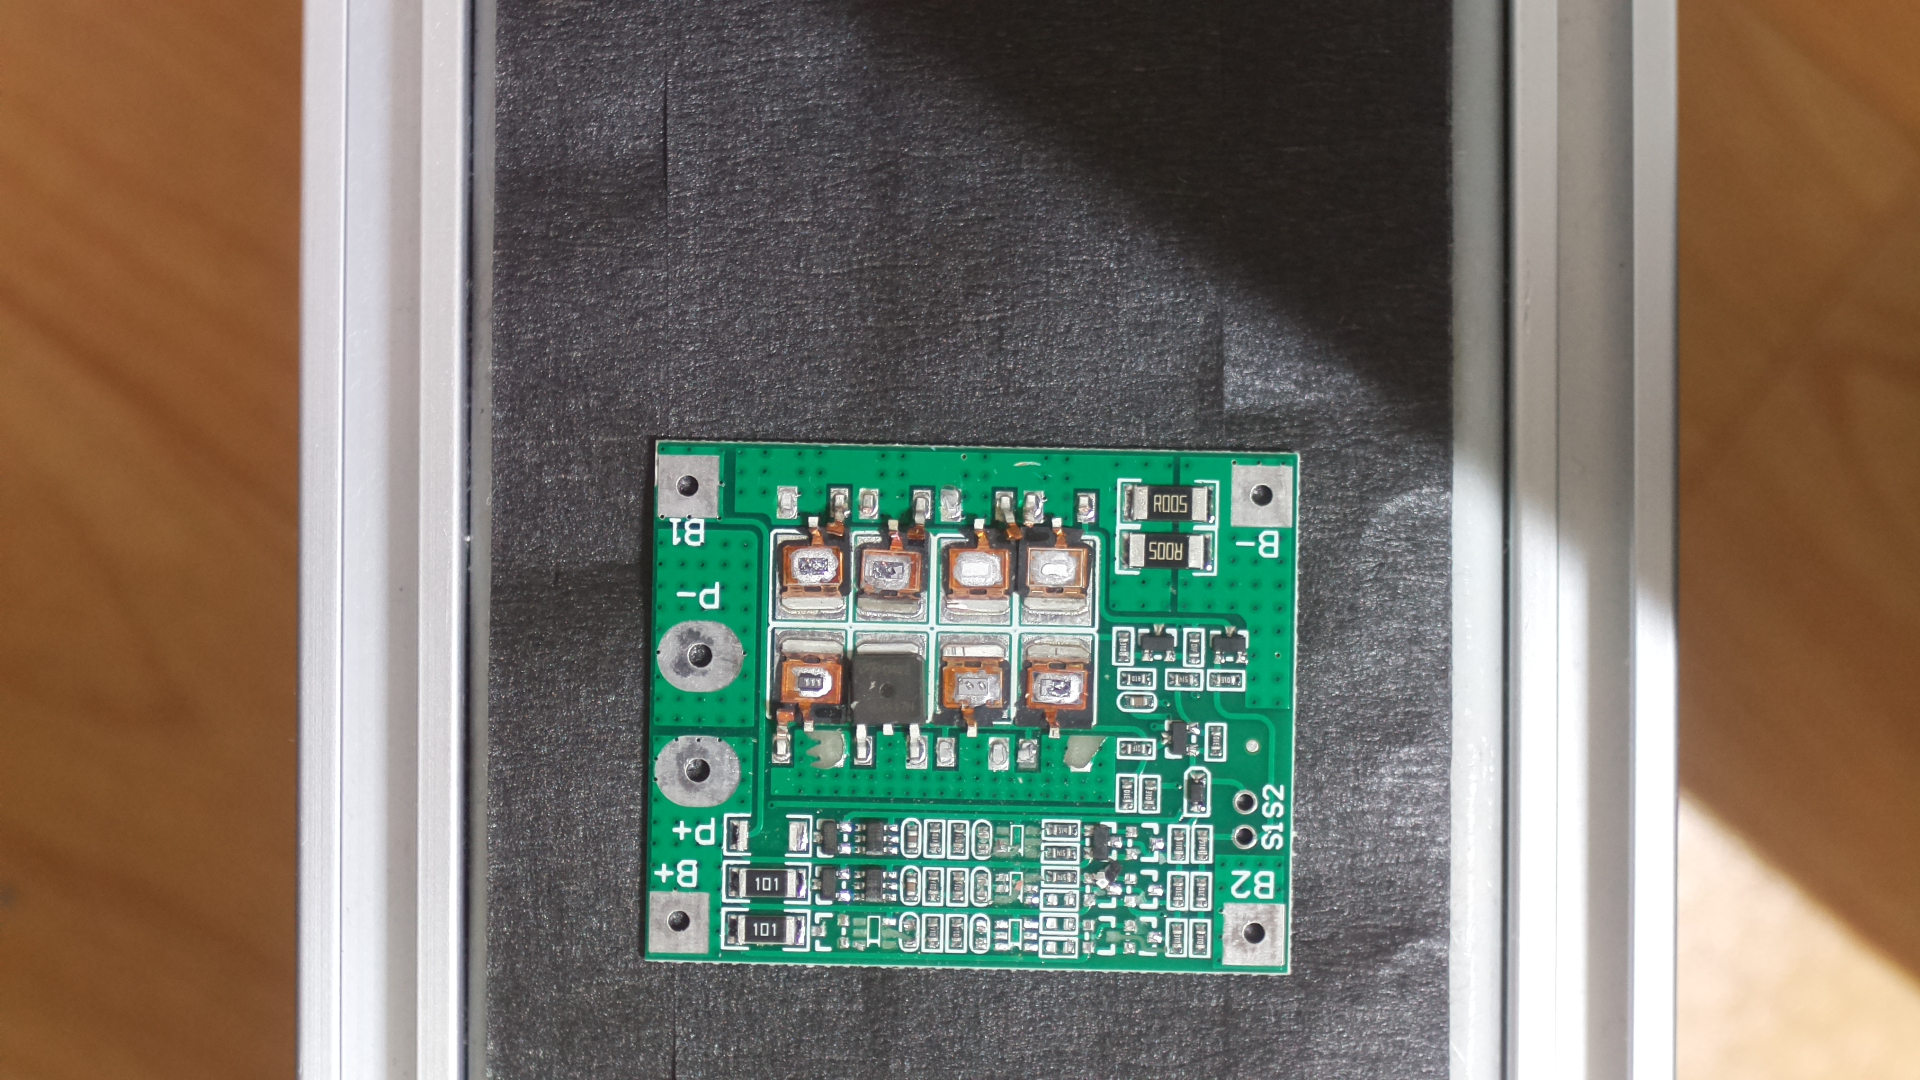C_Missing_part: (642, 427, 1300, 990)
